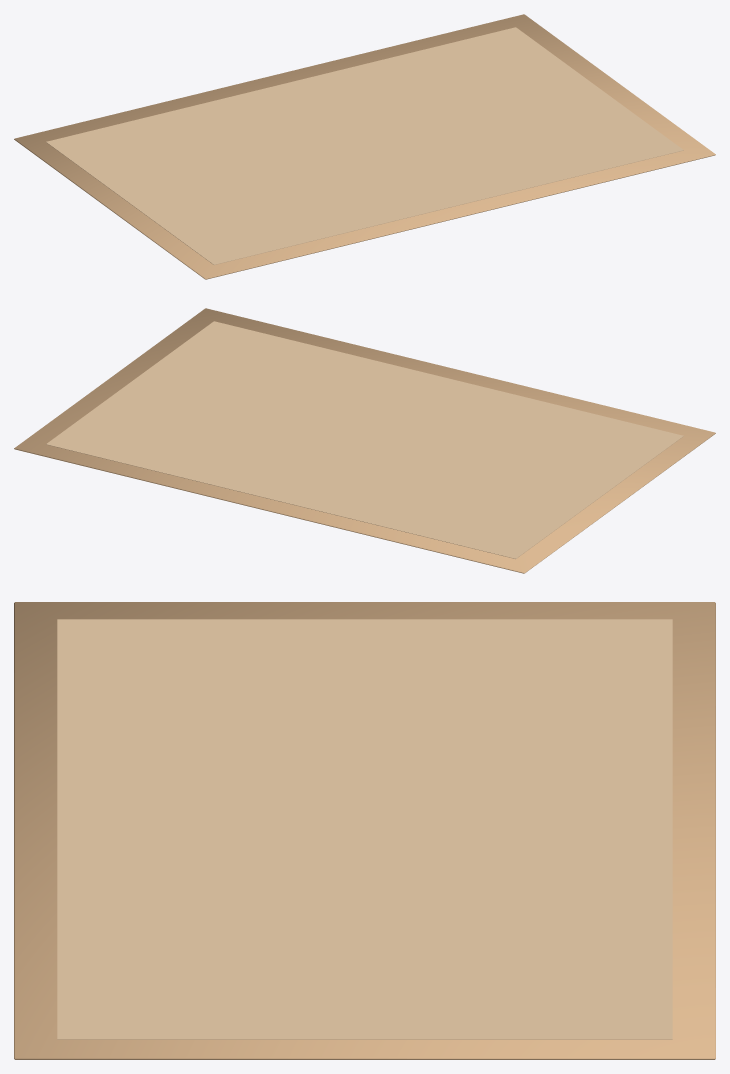
File: senior_rug.glb
3 views of the same model, one above another, from view 1: azimuth 30°, elevation 25°; view 2: azimuth 150°, elevation 25°; view 3: azimuth 270°, elevation 25° (orthographic). The views are drawn at different scales.
Visible parts, largest first — view 1: senior_rug__RugInner, senior_rug__Rug; view 2: senior_rug__RugInner, senior_rug__Rug; view 3: senior_rug__RugInner, senior_rug__Rug.
Boxes of the visible parts, bbox=[...] form: senior_rug__RugInner: bbox=[46, 27, 683, 264]; senior_rug__Rug: bbox=[14, 14, 715, 279]; senior_rug__RugInner: bbox=[46, 321, 683, 558]; senior_rug__Rug: bbox=[14, 308, 715, 573]; senior_rug__RugInner: bbox=[57, 619, 672, 1039]; senior_rug__Rug: bbox=[14, 602, 715, 1059].
Bounding box in the file's own units: 2 × 0.006 × 1.3.
